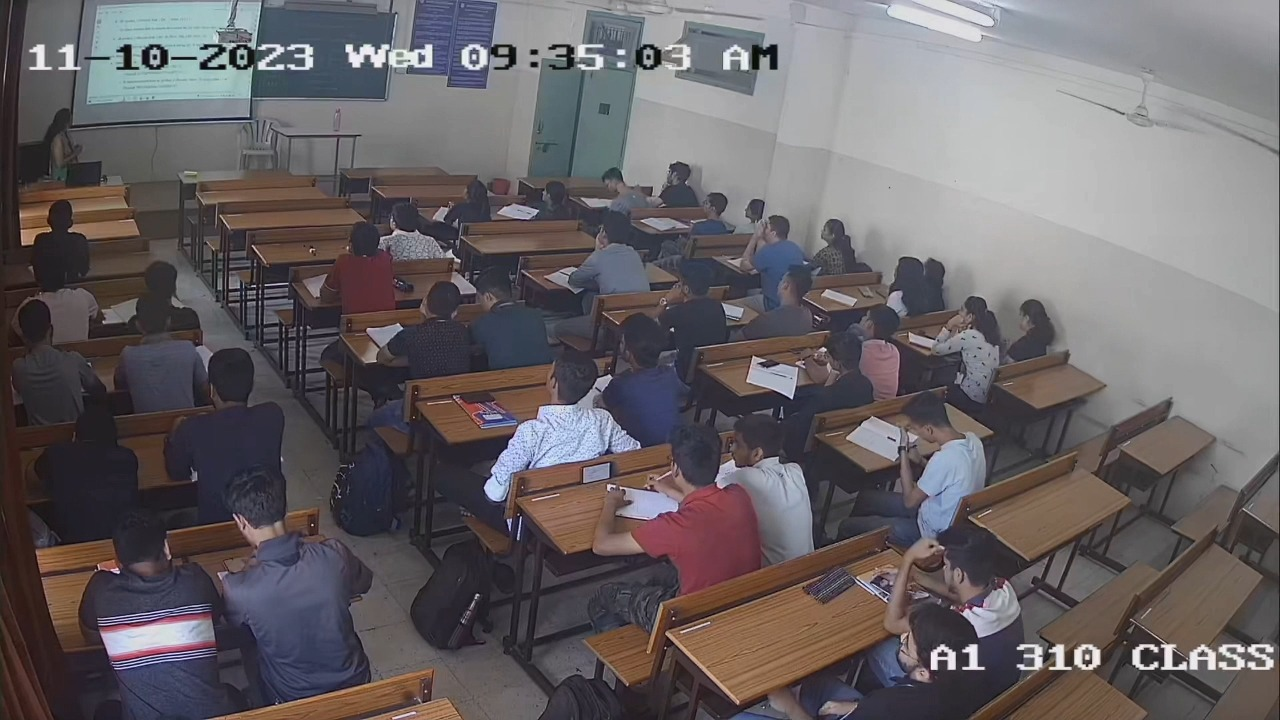cell-phones: (579, 459, 618, 486), (457, 387, 499, 406), (756, 358, 783, 369), (857, 284, 875, 299)
person: (598, 427, 763, 596), (490, 348, 637, 465), (791, 331, 875, 411), (886, 254, 934, 317)
